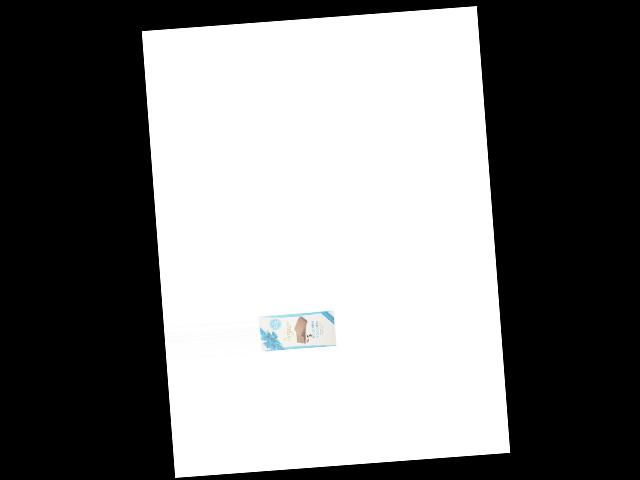chocolate: (257, 307, 338, 356)
